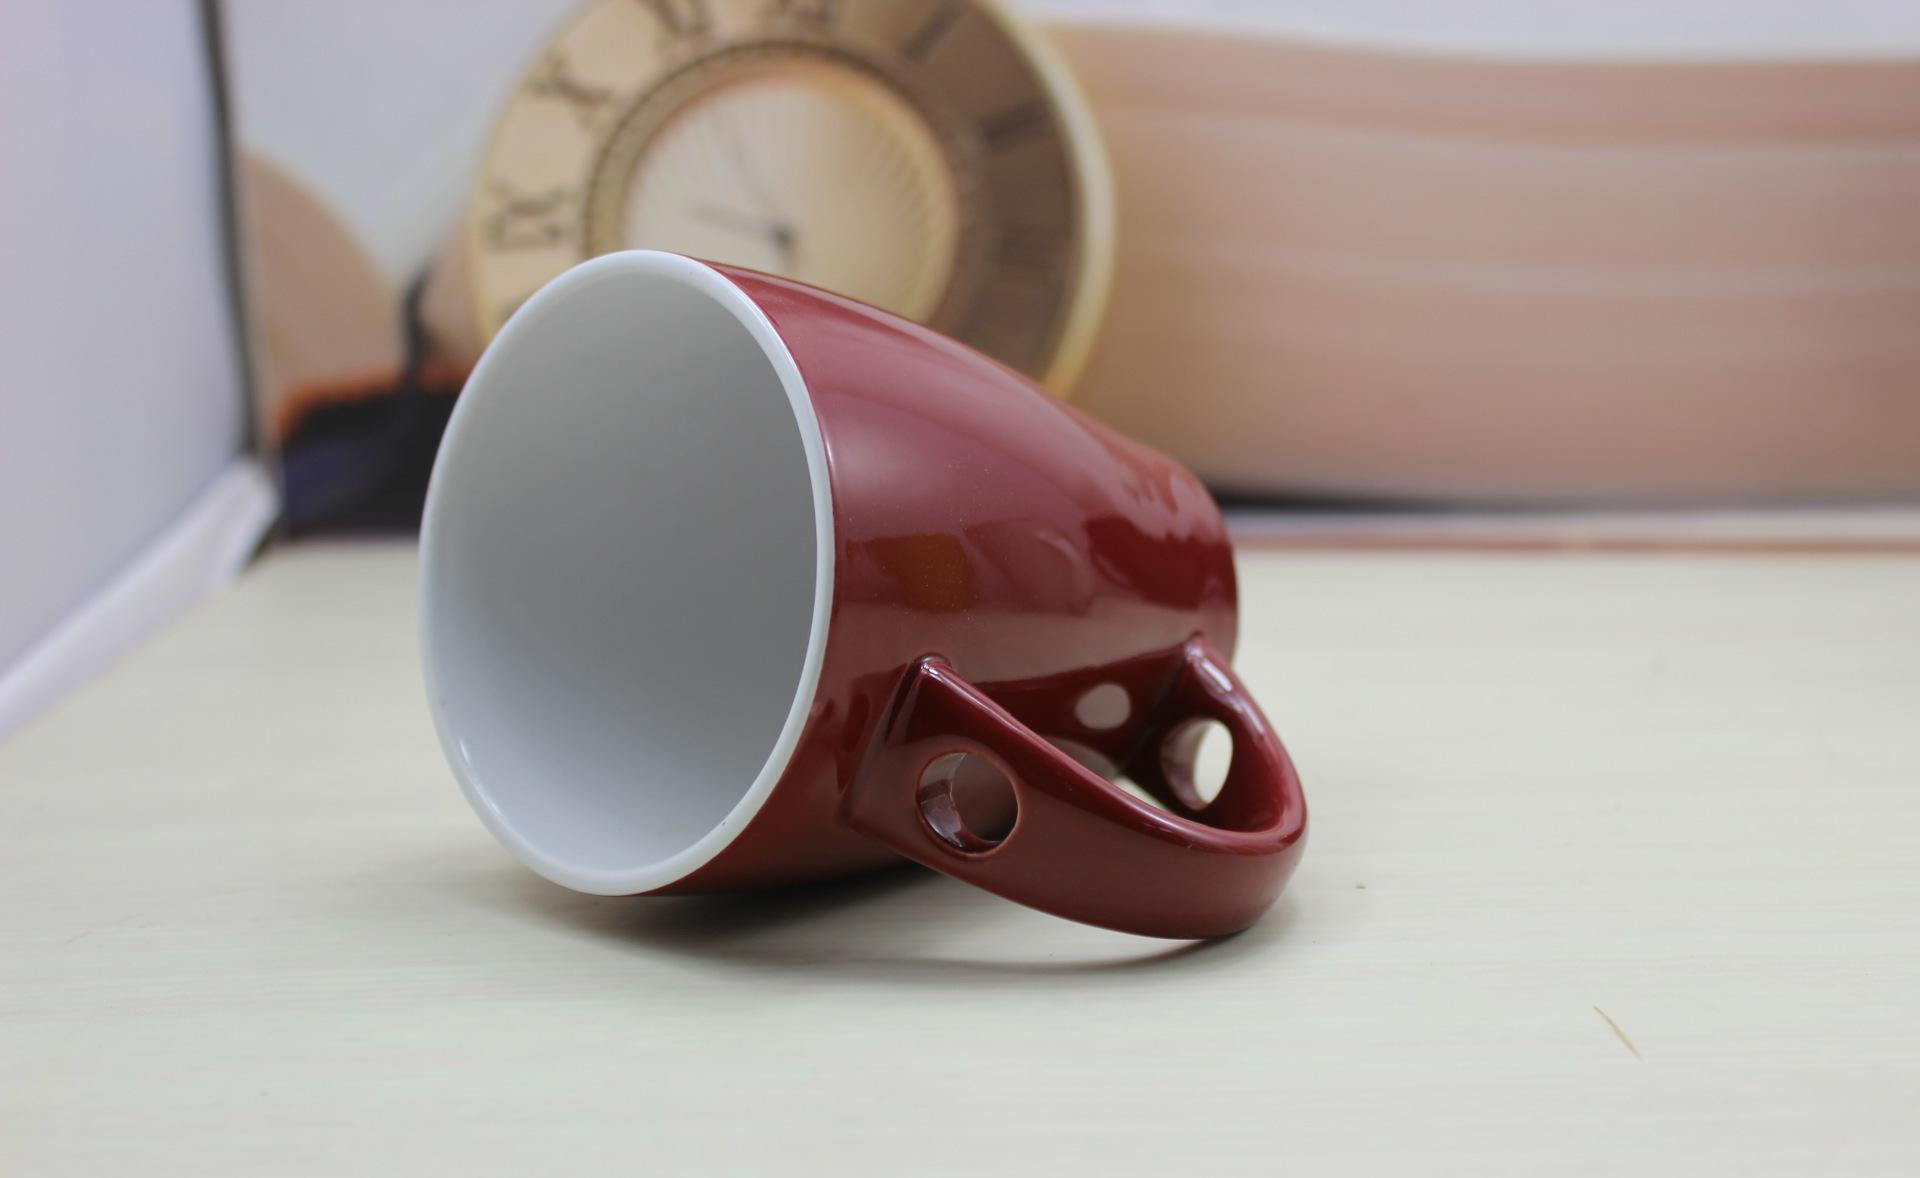cup: (411, 241, 1311, 978)
